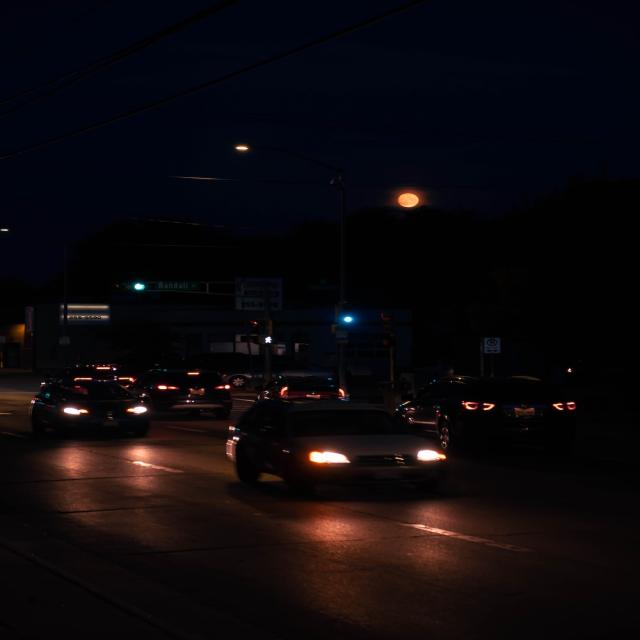headlights: (293, 443, 462, 480), (46, 399, 164, 426)
